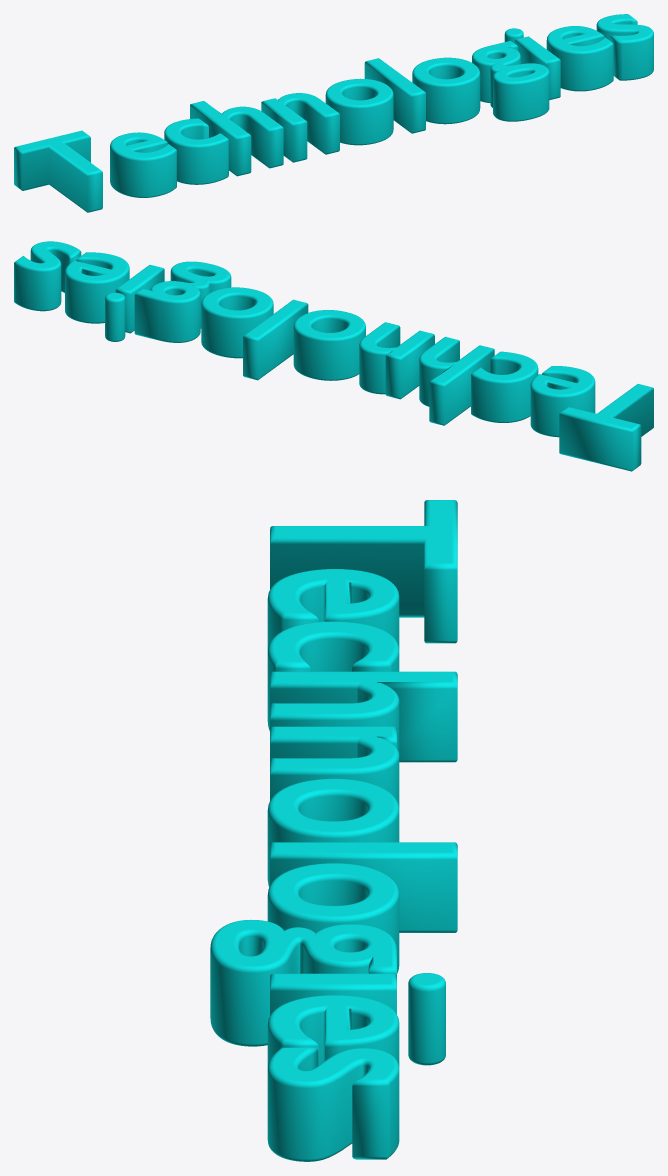
The model's file is Text_Tech.glb.
3 renders of one model, top to bottom at view 1: azimuth 30°, elevation 25°; view 2: azimuth 150°, elevation 25°; view 3: azimuth 270°, elevation 25°, orthographic. The views are drawn at different scales.
Parts seen in each view (by area): view 1: Text; view 2: Text; view 3: Text.
Part boxes in pixels (x1,y1,x2,y2): Text: (14,14,653,212); Text: (14,241,653,471); Text: (210,500,457,1161).
Bounding box in the file's own units: 5.34 × 0.34 × 0.952.
